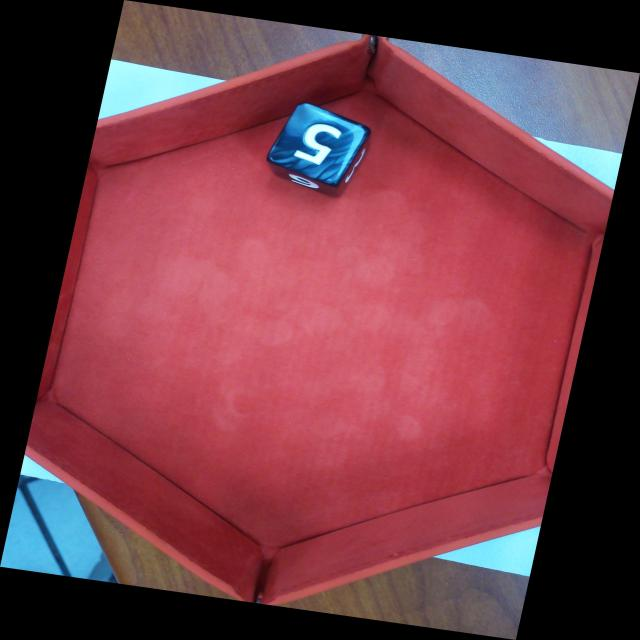dice: (259, 97, 374, 190)
